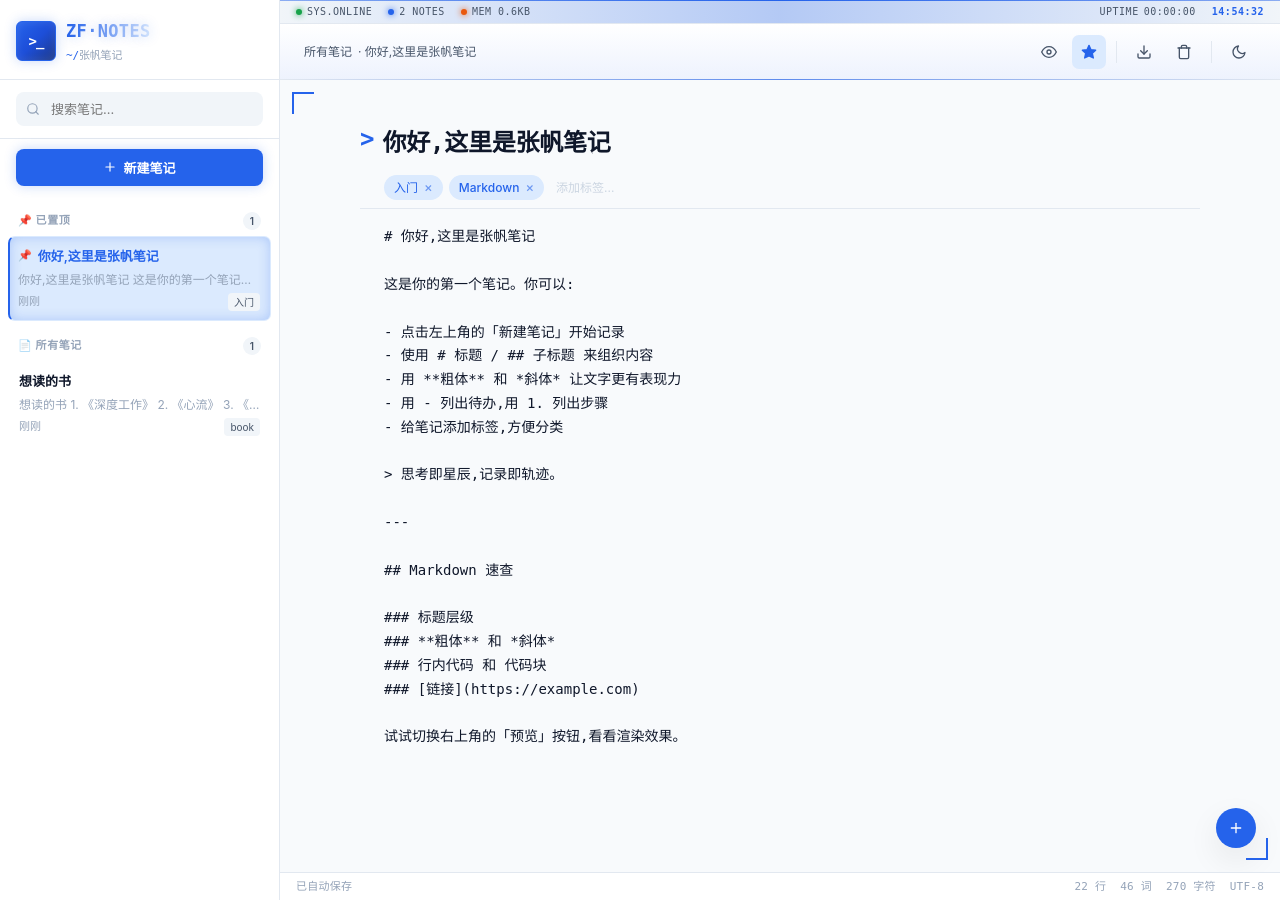
Scenario: App integration › search filters list
Type "书" into the field with test id "search-input" at (140, 109), box [16, 92, 263, 126]
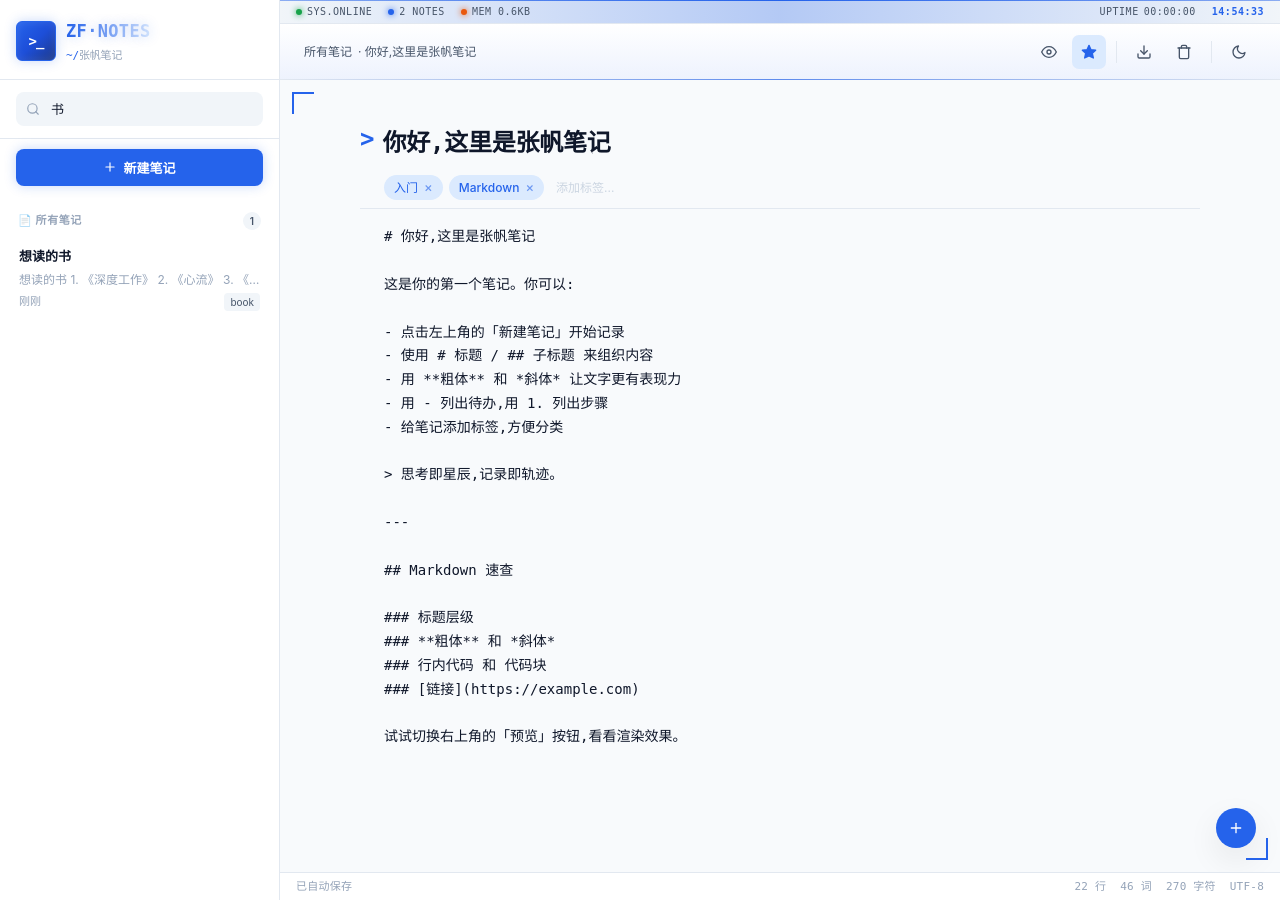
Check: the element with test id "notes-list" shows "想读的书", box [19, 248, 71, 264]
Check: the element with test id "notes-list" no longer shows "你好"
